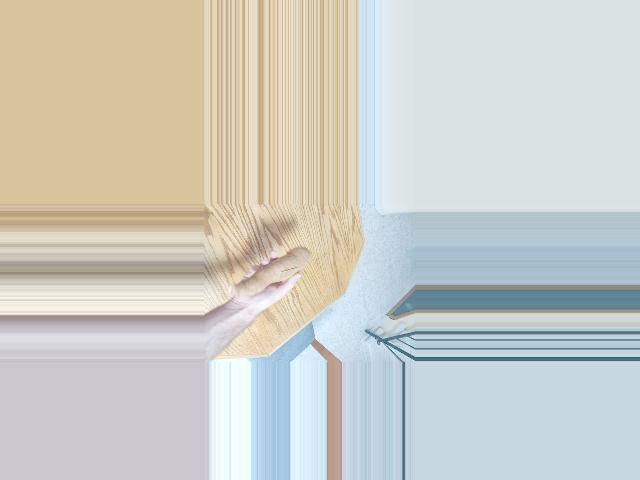sweet_potato: (226, 246, 314, 303)
